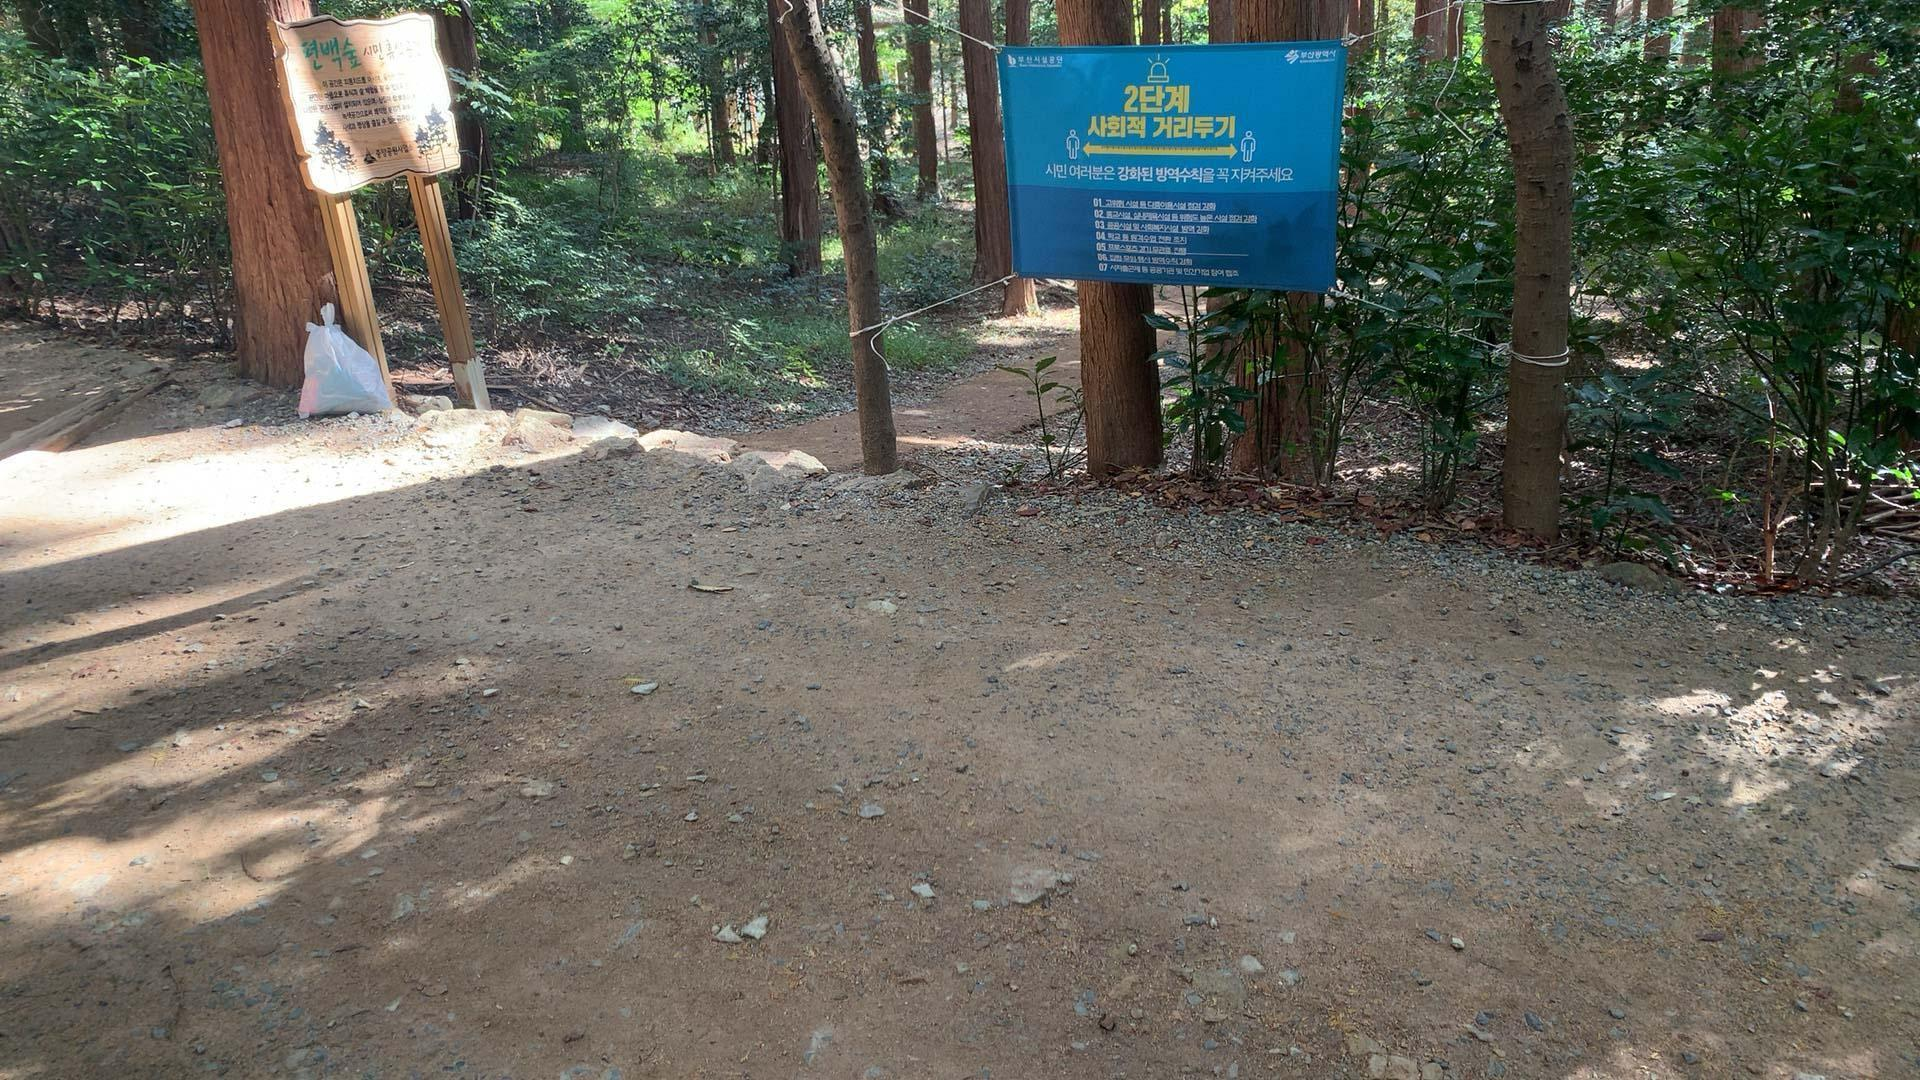white_bag: (291, 301, 400, 421)
